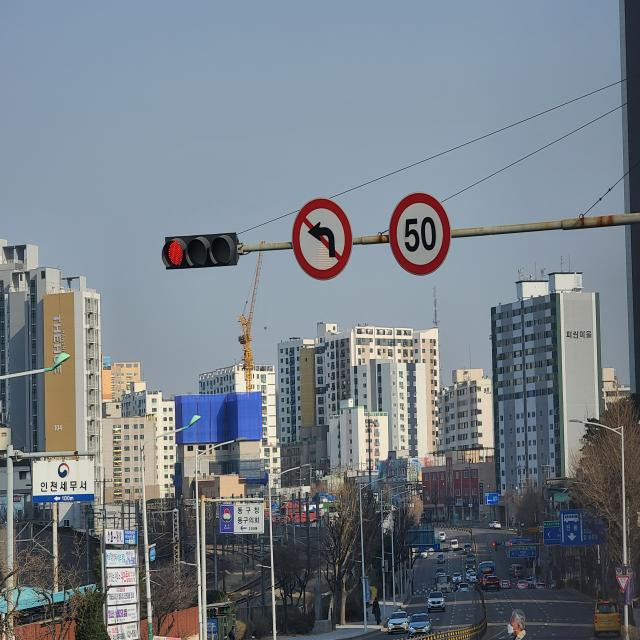Red Light: (165, 238, 185, 269), (492, 543, 496, 546), (510, 542, 513, 545)
